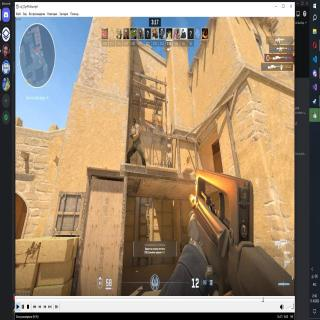T-Body: (127, 115, 146, 172)
T-Head: (130, 116, 138, 126)
